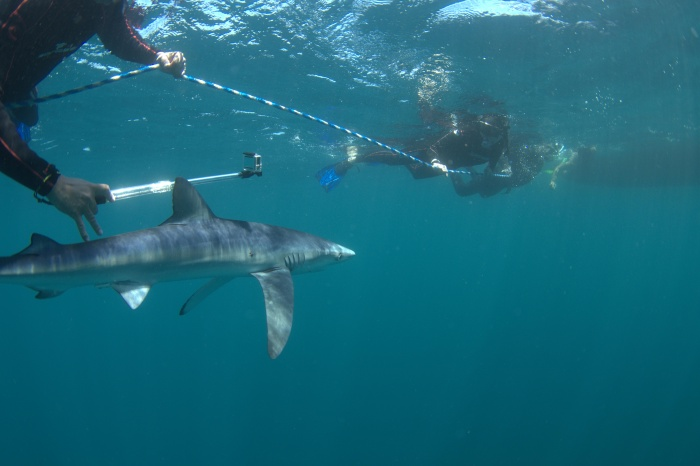Azul: (1, 173, 384, 369)
